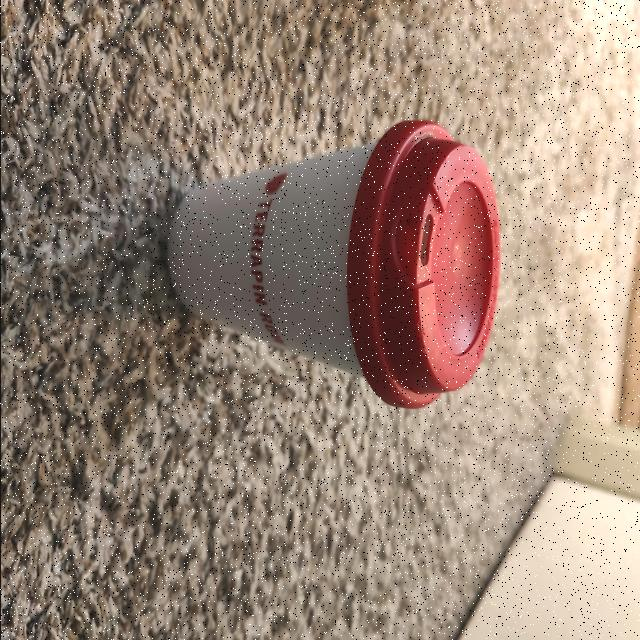mug: (173, 129, 501, 411)
